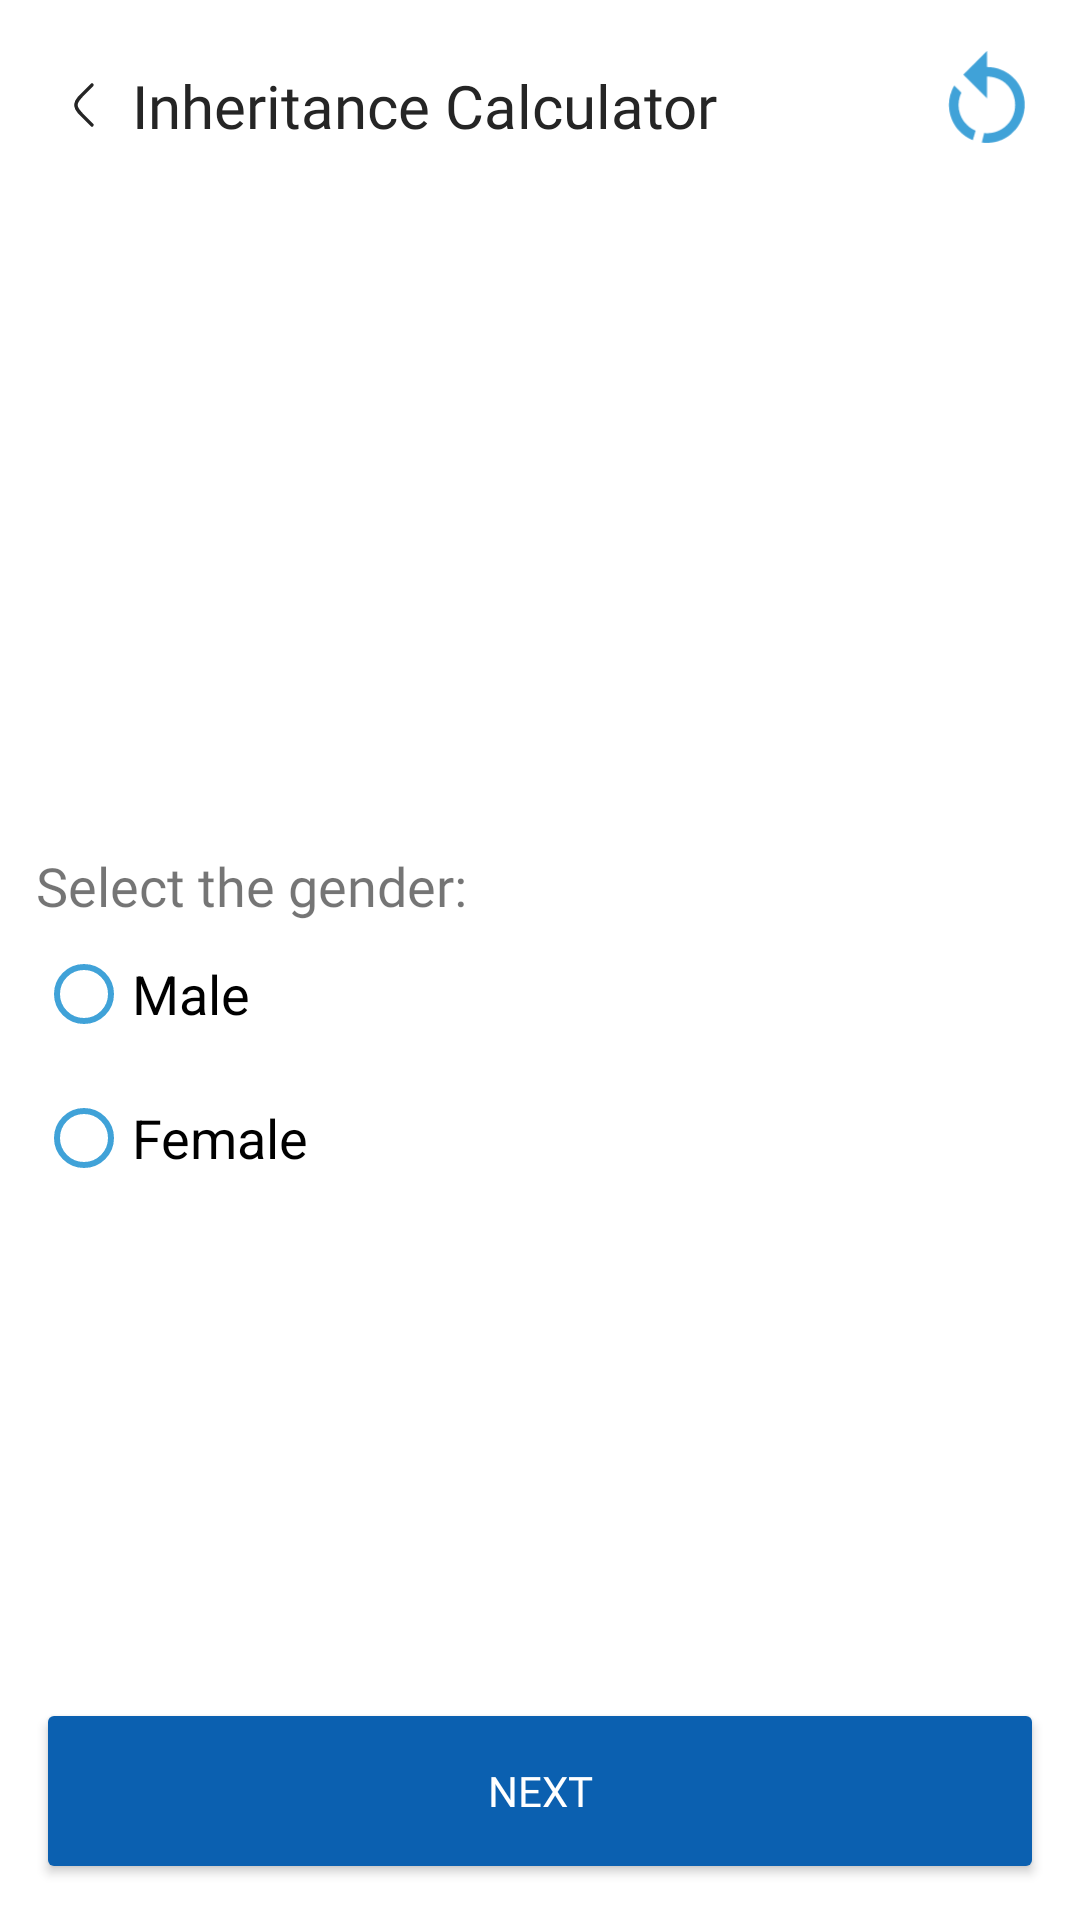

Where to tap for icons on this 1080w x 1920h app screen, as point (x, y):
left: point (84, 105)
restart: point (986, 97)
